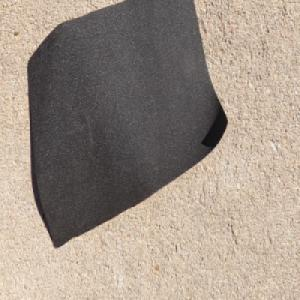PaintChip: (27, 0, 229, 251)
